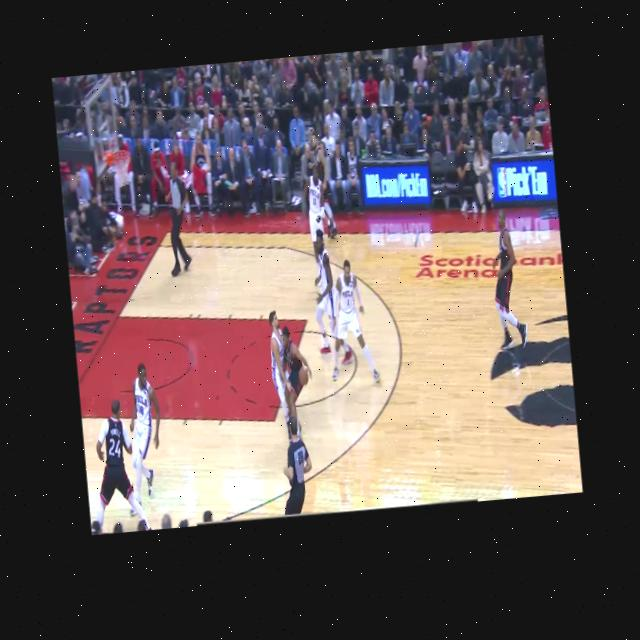Foul: (261, 298, 326, 424)
